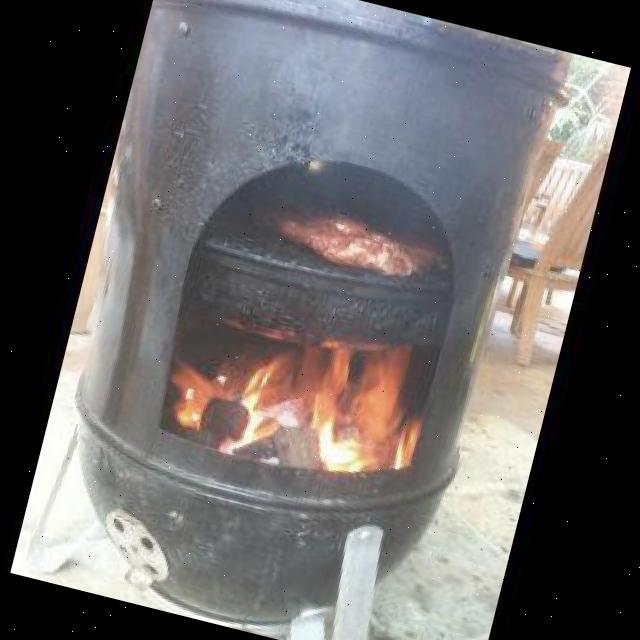fire: (154, 303, 442, 495)
